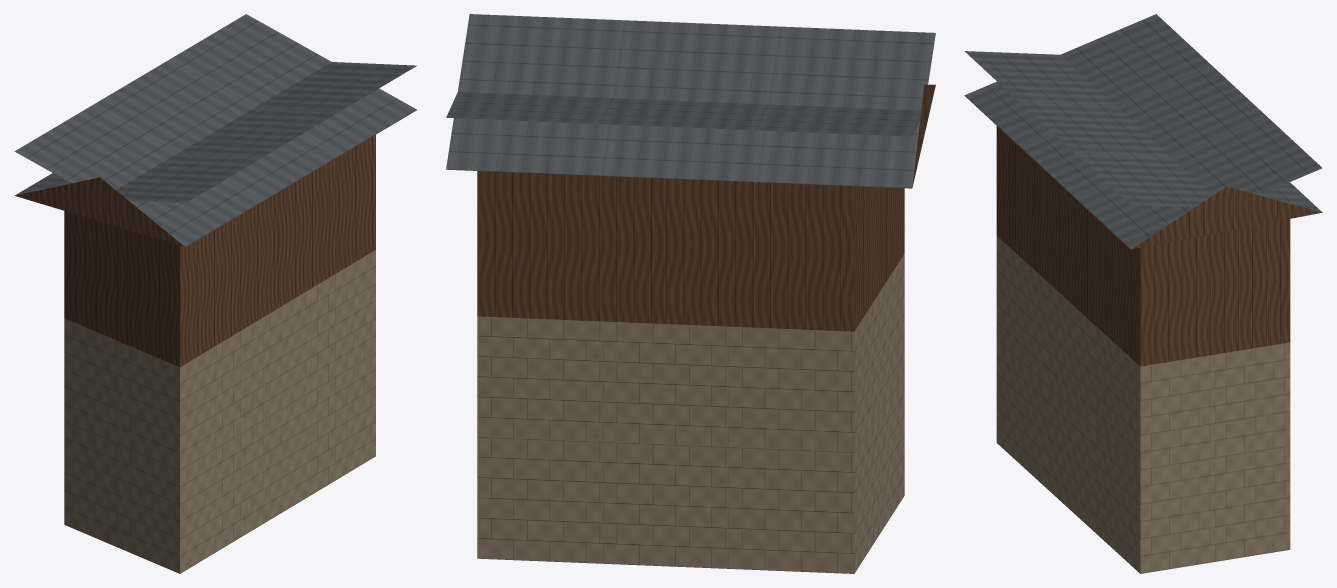
The model's file is bld_c-17_-32_914.gltf.
3 views of the same model, side by side, from view 1: azimuth 30°, elevation 25°; view 2: azimuth 150°, elevation 25°; view 3: azimuth 270°, elevation 25° (orthographic). The views are drawn at different scales.
Visible parts, largest first — view 1: bld_c-17_-32_914; view 2: bld_c-17_-32_914; view 3: bld_c-17_-32_914.
Boxes of the visible parts, box(x1,y1,x2,y2) form: bld_c-17_-32_914: box(14, 14, 416, 573); bld_c-17_-32_914: box(446, 14, 935, 573); bld_c-17_-32_914: box(964, 14, 1322, 573).
Bounding box in the file's own units: 9.23 × 8.7 × 7.31.
Materials: 4 (4 with a texture image).
